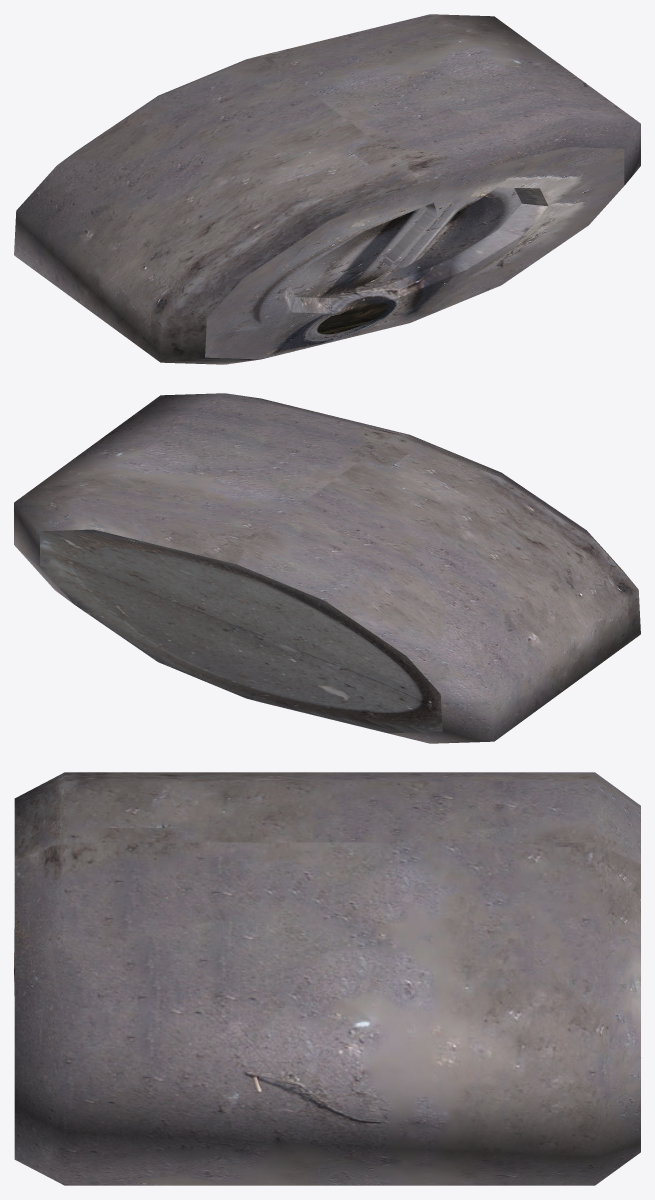
The model's file is barrel.FBX.
3 renders of one model, top to bottom at view 1: azimuth 30°, elevation 25°; view 2: azimuth 150°, elevation 25°; view 3: azimuth 270°, elevation 25°, orthographic. The views are drawn at different scales.
Visible parts, largest first — view 1: Cylinder002; view 2: Cylinder002; view 3: Cylinder002.
Part boxes in pixels (<box>): Cylinder002: <box>14,14,640,364</box>; Cylinder002: <box>14,393,640,743</box>; Cylinder002: <box>14,772,640,1185</box>.
Size of the model in its own units: 39.21 by 12.27 by 24.52.
1 material, 1 textured.
